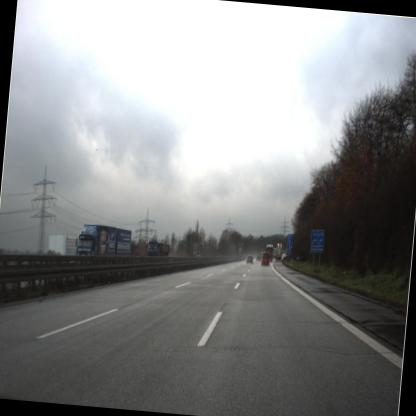mandatory: (316, 236, 326, 247), (310, 236, 318, 247)
